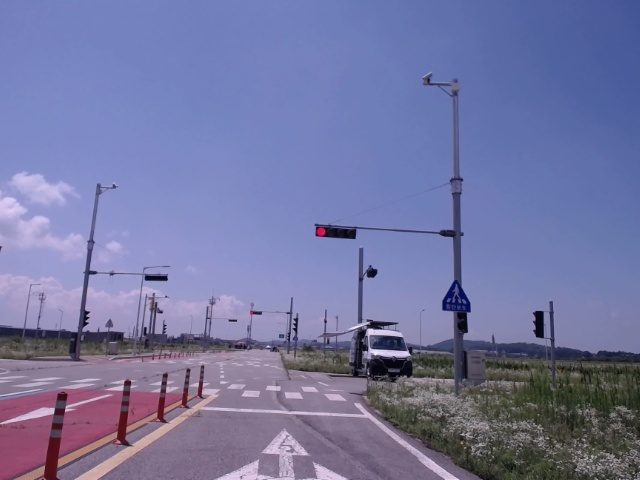red_4: (316, 226, 357, 239)
